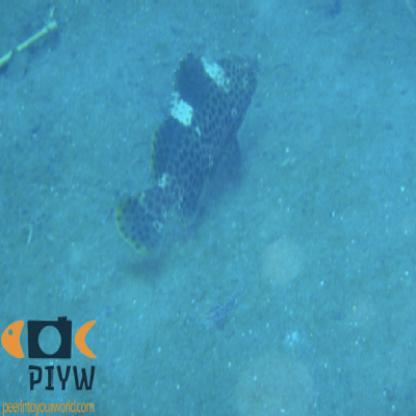Bio: (113, 38, 260, 264)
